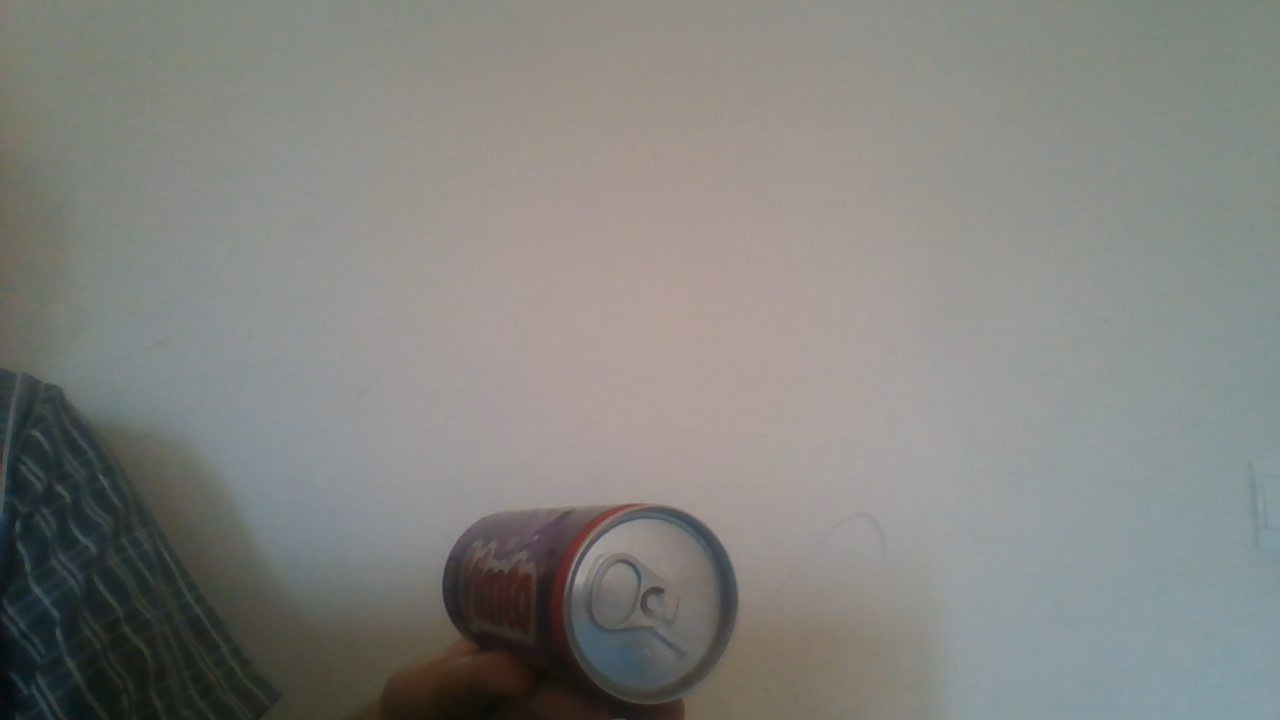can: (434, 498, 747, 709)
